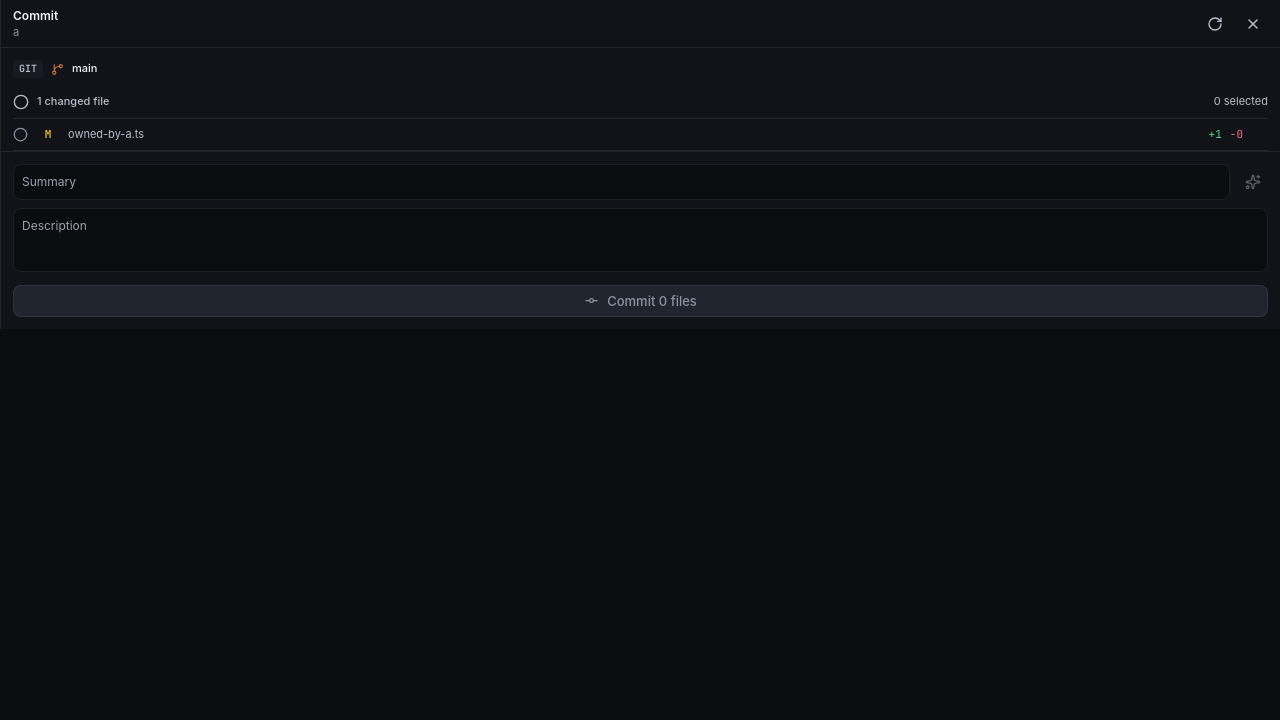
commit diff ownership › closes the old diff before requesting it from a changed chat
Click the button with aria-label "Review changes to owned-by-a.ts": [106, 134] box left=32, top=119, right=1268, bottom=150
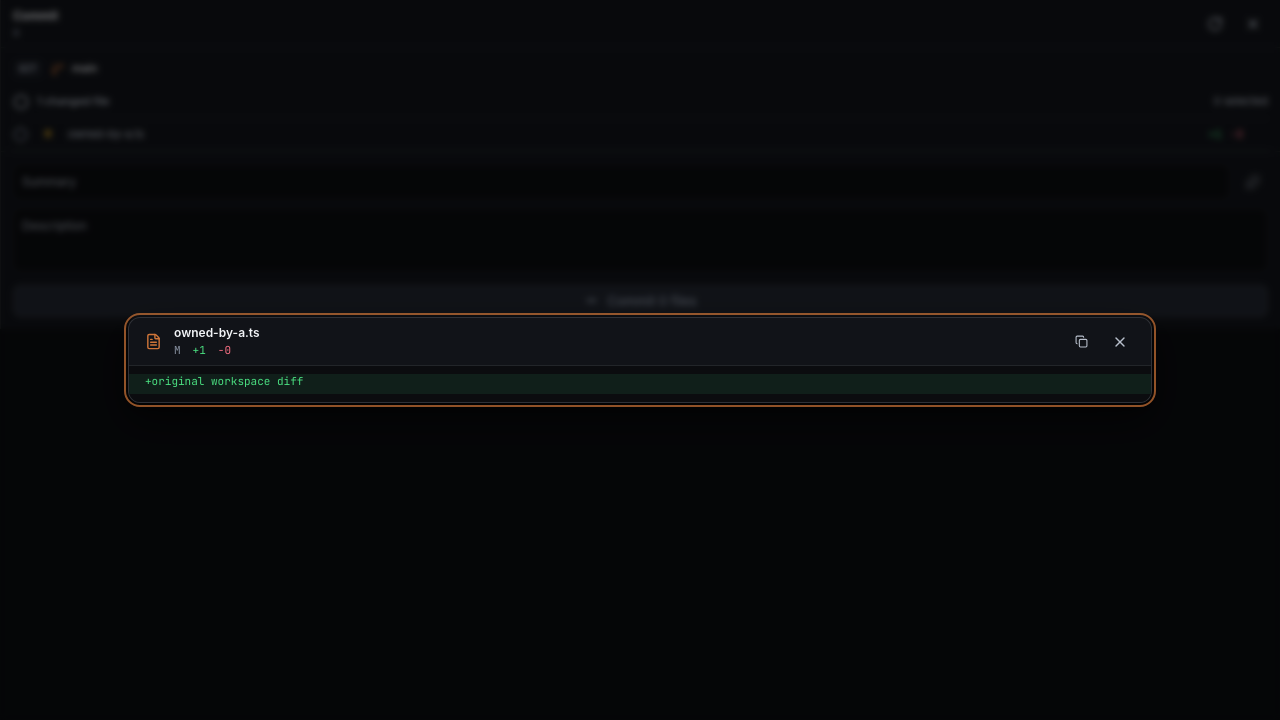
Check: the dialog named "Changes in owned-by-a.ts" is shown, box left=128, top=317, right=1152, bottom=403
